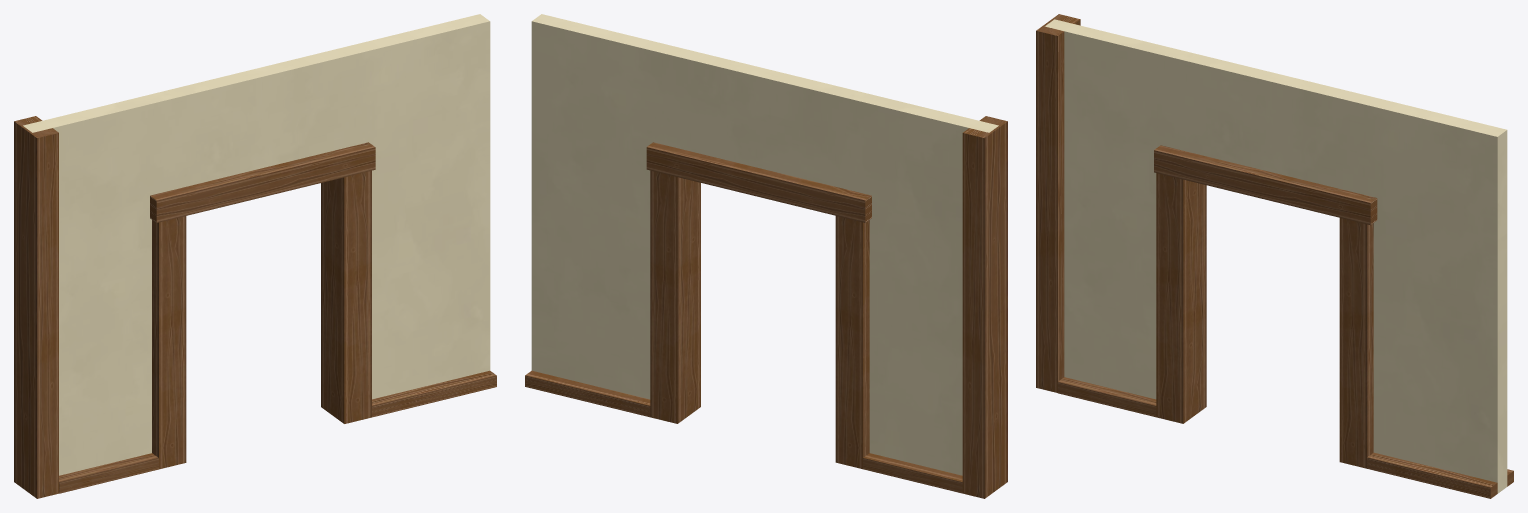
The model's file is SM_Door_Wall_01_wcream.glb.
3 renders of one model, left to right at view 1: azimuth 30°, elevation 25°; view 2: azimuth 150°, elevation 25°; view 3: azimuth 330°, elevation 25°, orthographic.
Visible parts, largest first — view 1: SM_Door_Wall_01; view 2: SM_Door_Wall_01; view 3: SM_Door_Wall_01.
Part boxes in pixels (<box>): SM_Door_Wall_01: <box>14,14,496,498</box>; SM_Door_Wall_01: <box>525,14,1007,498</box>; SM_Door_Wall_01: <box>1036,14,1513,498</box>.
Size of the model in its own units: 4 by 3 by 0.3524.
Materials: 2 (2 with a texture image).
